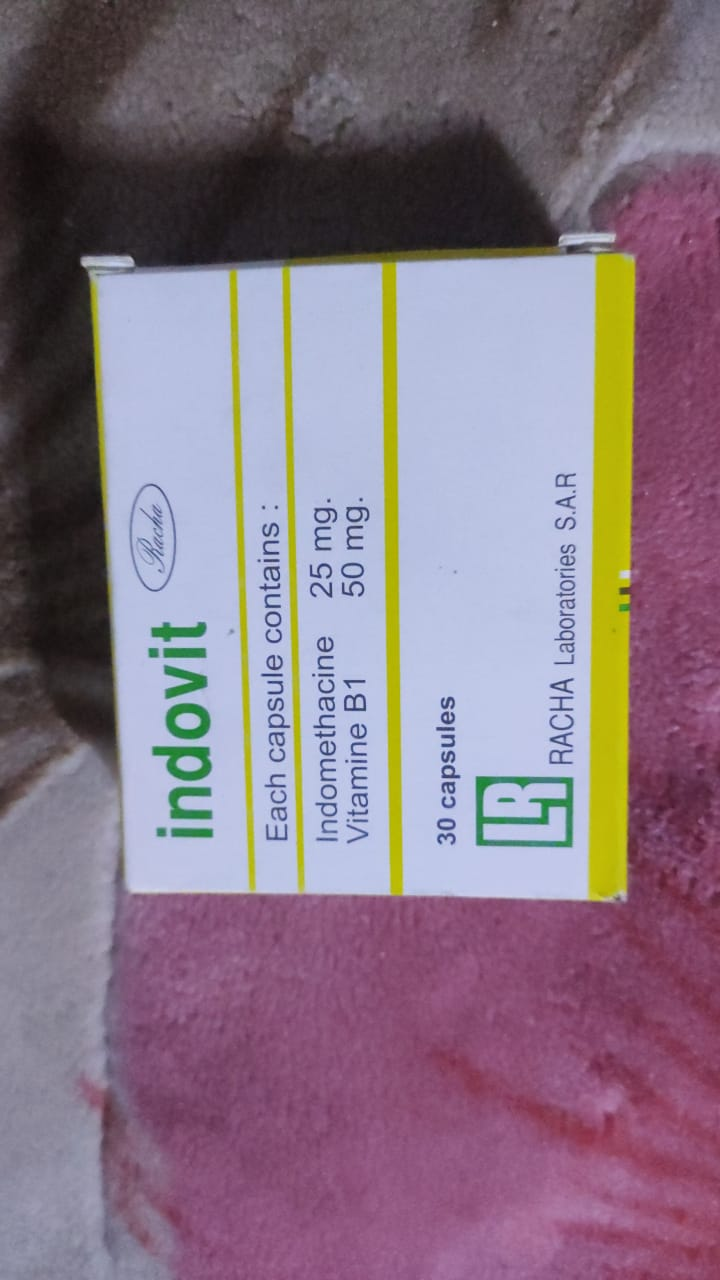Medicine: (77, 227, 650, 937)
